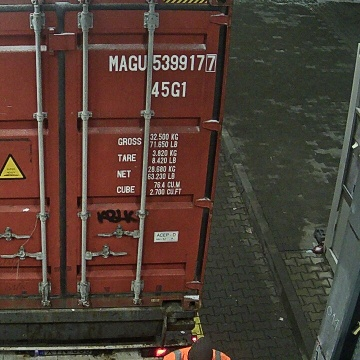serial_id: (110, 54, 216, 71)
